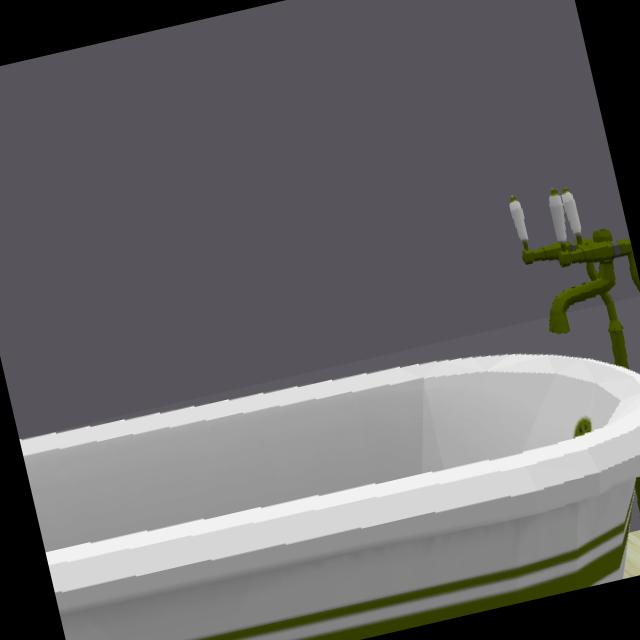bathtube: (19, 353, 640, 640)
